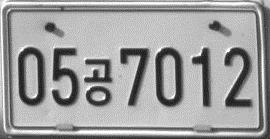0: (152, 46, 183, 107), (16, 45, 46, 105)
1: (183, 43, 221, 108)
2: (223, 46, 253, 109)
5: (50, 46, 79, 106)
7: (118, 45, 150, 107)
공: (83, 57, 114, 107)
